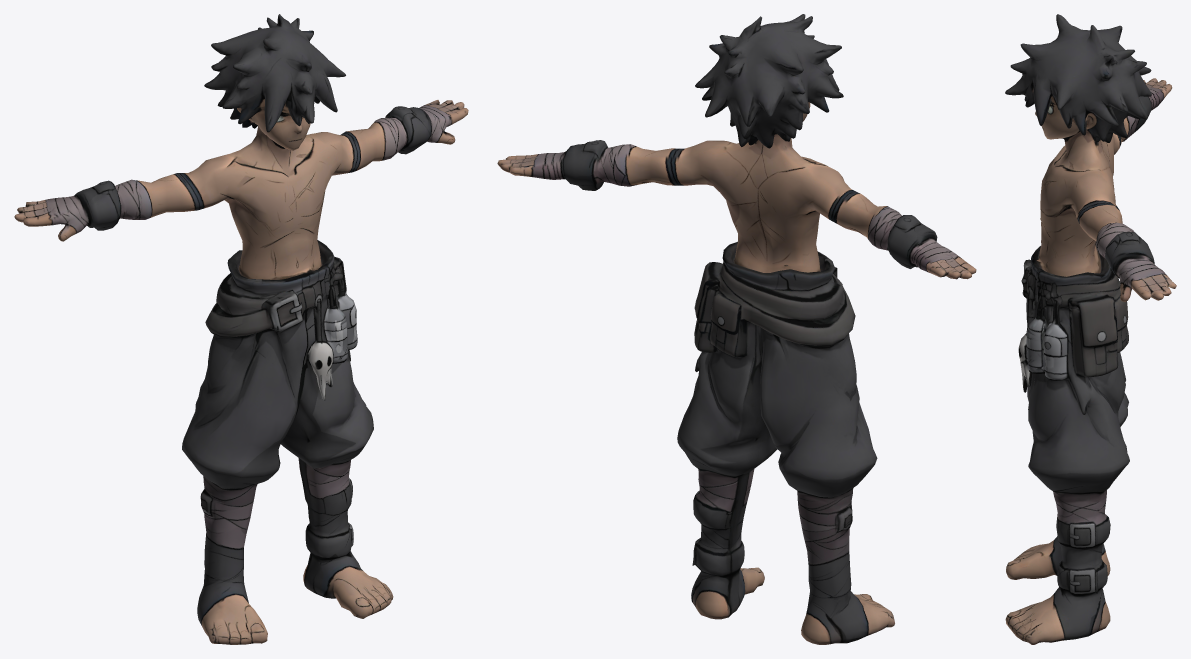
3 views of the same model, side by side, from view 1: azimuth 30°, elevation 25°; view 2: azimuth 150°, elevation 25°; view 3: azimuth 270°, elevation 25° (orthographic). The views are drawn at different scales.
Parts seen in each view (by area): view 1: tripo_node_c7a9803d-d82e-4018-afc8-29377088fe5d; view 2: tripo_node_c7a9803d-d82e-4018-afc8-29377088fe5d; view 3: tripo_node_c7a9803d-d82e-4018-afc8-29377088fe5d.
Part boxes in pixels (<box>): tripo_node_c7a9803d-d82e-4018-afc8-29377088fe5d: <box>14,14,468,644</box>; tripo_node_c7a9803d-d82e-4018-afc8-29377088fe5d: <box>497,14,976,644</box>; tripo_node_c7a9803d-d82e-4018-afc8-29377088fe5d: <box>1005,14,1176,644</box>.
Bounding box in the file's own units: 0.7902 × 0.9789 × 0.2621.
Materials: 1 (1 with a texture image).
